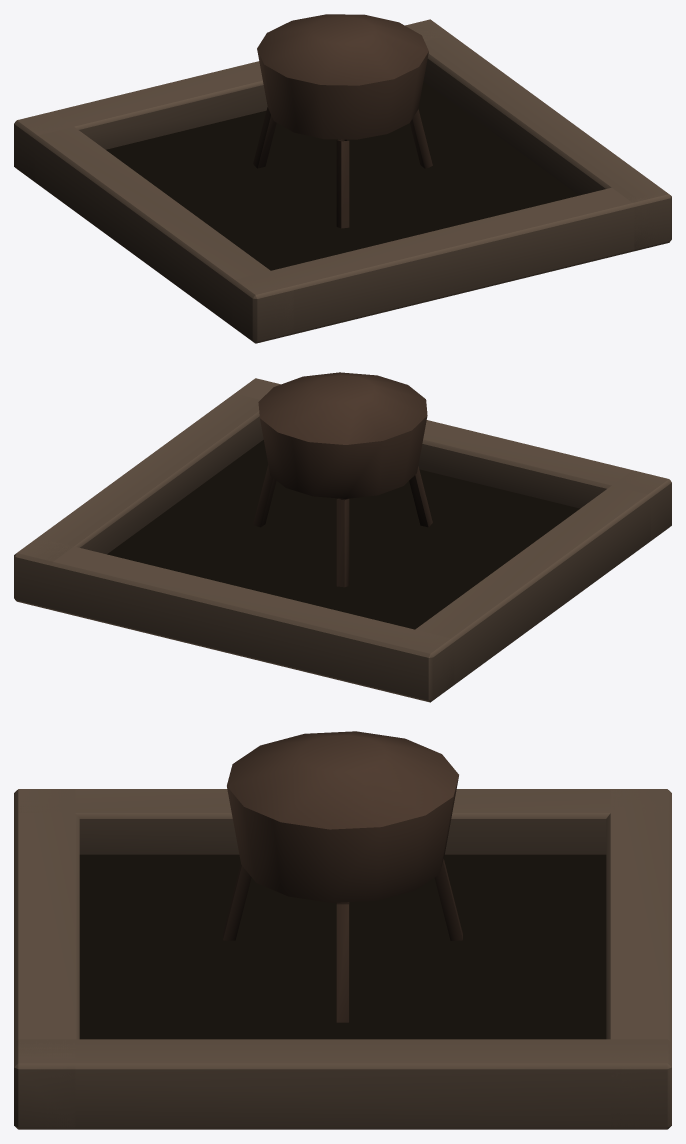
File: prop.irori.mo.glb
3 views of the same model, one above another, from view 1: azimuth 30°, elevation 25°; view 2: azimuth 150°, elevation 25°; view 3: azimuth 270°, elevation 25° (orthographic). The views are drawn at different scales.
Parts seen in each view (by area): view 1: LOD0; view 2: LOD0; view 3: LOD0.
Boxes of the visible parts, x1,y1,x2,y2 form: LOD0: (14, 14, 671, 343); LOD0: (14, 372, 671, 702); LOD0: (14, 731, 671, 1129).
Size of what is drawn, in the model's own units: 0.9 by 0.36 by 0.9.
